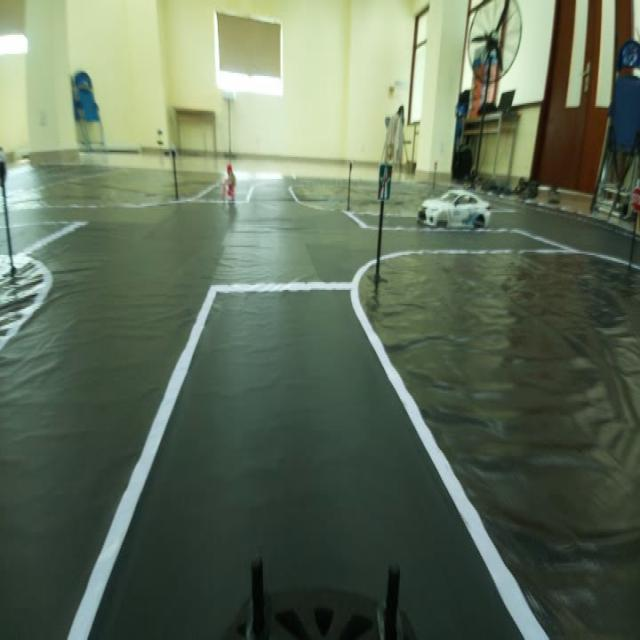highway_exit: (372, 156, 394, 205)
